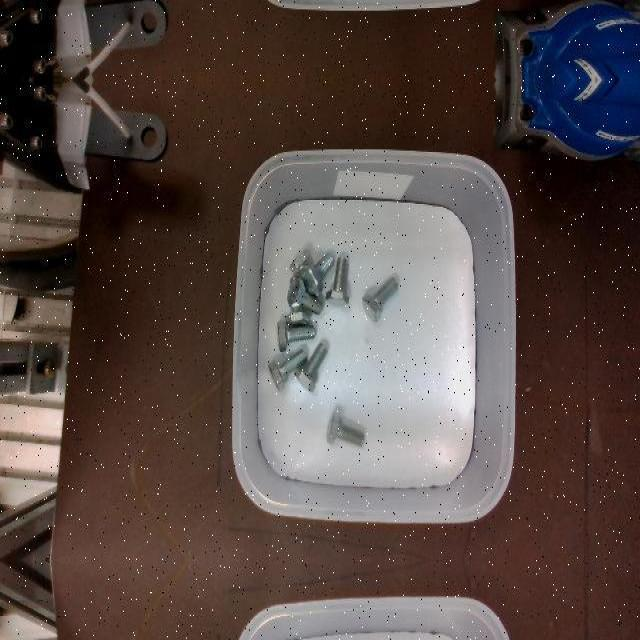screw: (293, 341, 327, 391), (362, 276, 398, 322), (268, 348, 307, 390), (300, 253, 335, 297), (326, 410, 364, 446), (287, 277, 323, 315), (276, 320, 314, 352), (325, 257, 349, 307)
